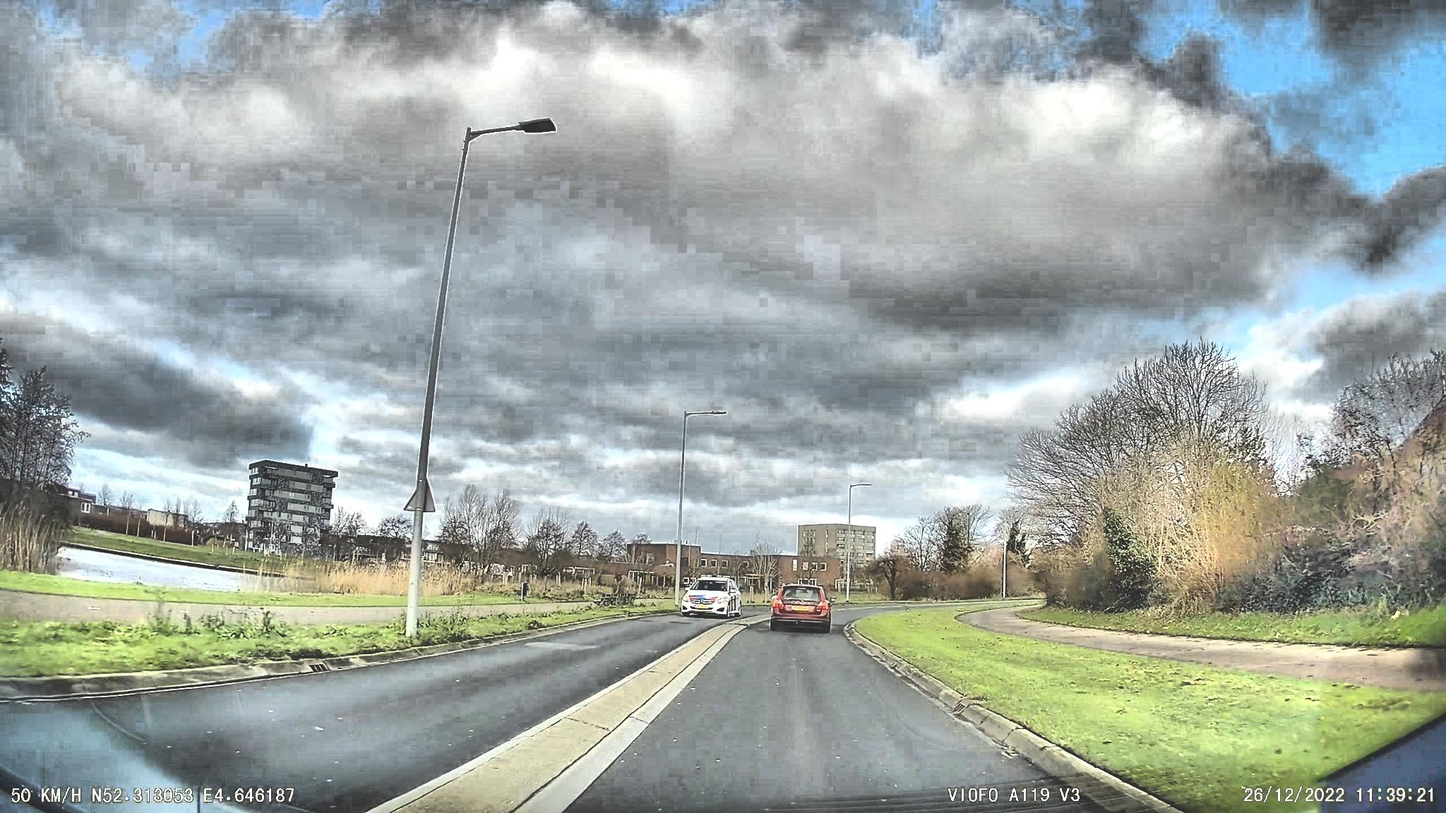Roads: (0, 621, 1176, 813)
